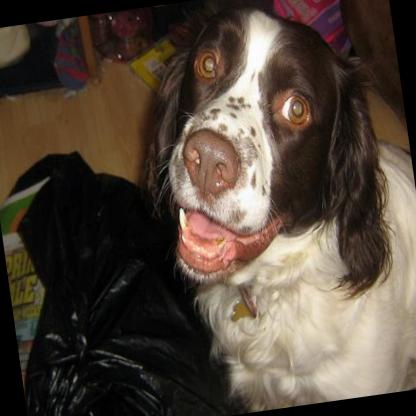English_springer: (112, 0, 416, 416)
